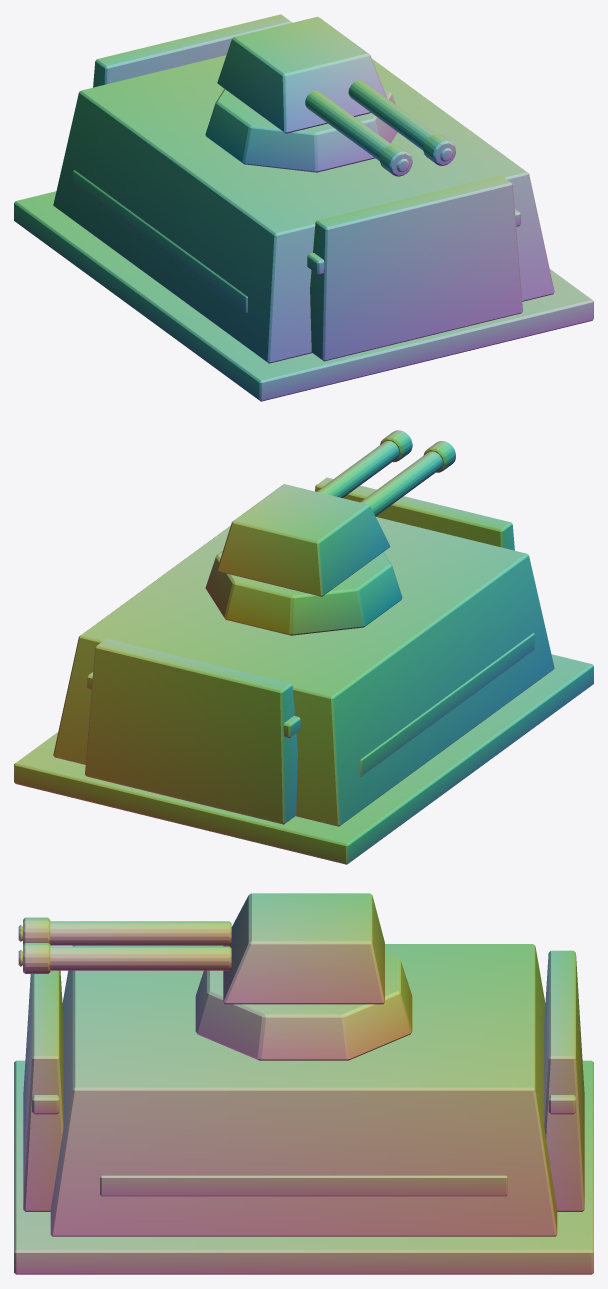
File: module_attack_rig.glb
The picture shows the model from 3 angles, top to bottom: view 1: azimuth 30°, elevation 25°; view 2: azimuth 150°, elevation 25°; view 3: azimuth 270°, elevation 25°; orthographic projection. The views are drawn at different scales.
Parts seen in each view (by area): view 1: body; view 2: body; view 3: body.
Part boxes in pixels (x1,y1,x2,y2): body: (14,14,593,401); body: (14,430,593,864); body: (14,893,593,1274).
Size of the model in its own units: 10 by 6.4 by 12.8.
